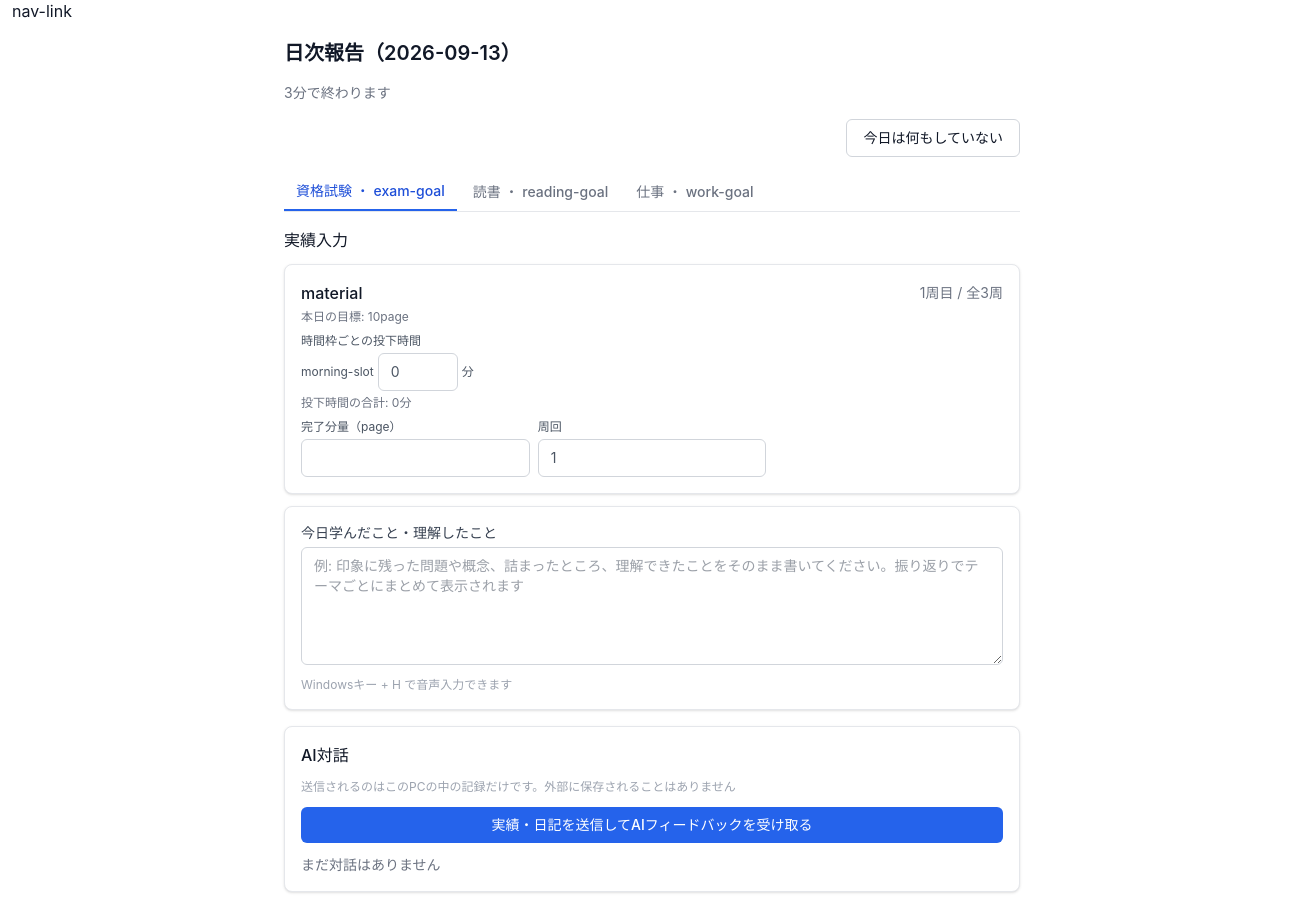
DailyReportPage › shows the truncation notice only in the category whose reply was truncated
This screenshot has width=1292, height=899.
Click the button "読書 ・ reading-goal".
click(540, 192)  # box [461, 173, 620, 211]
(page scrolled)
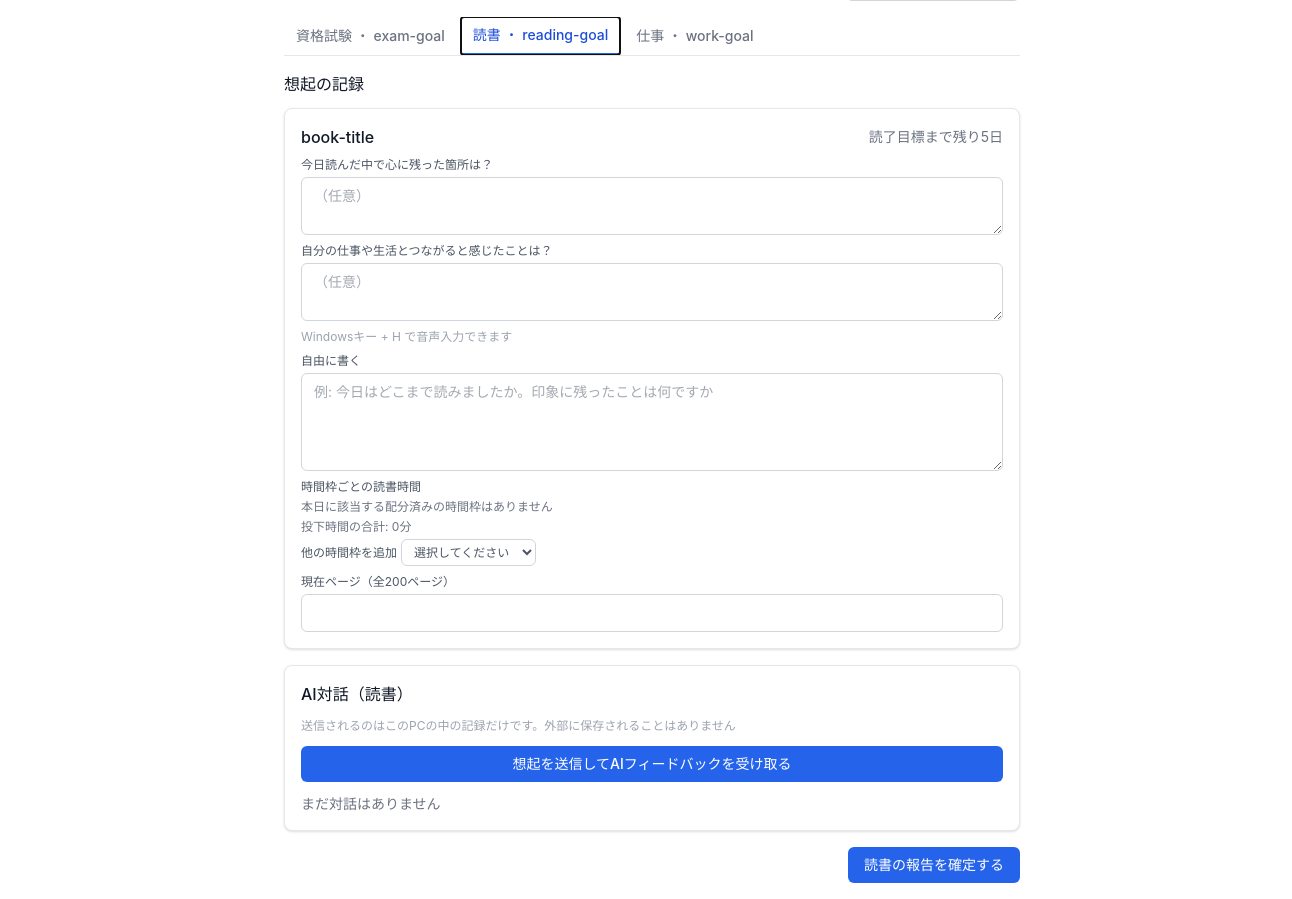
Click the button "想起を送信してAIフィードバックを受け取る".
click(652, 764)  # box [301, 746, 1003, 782]
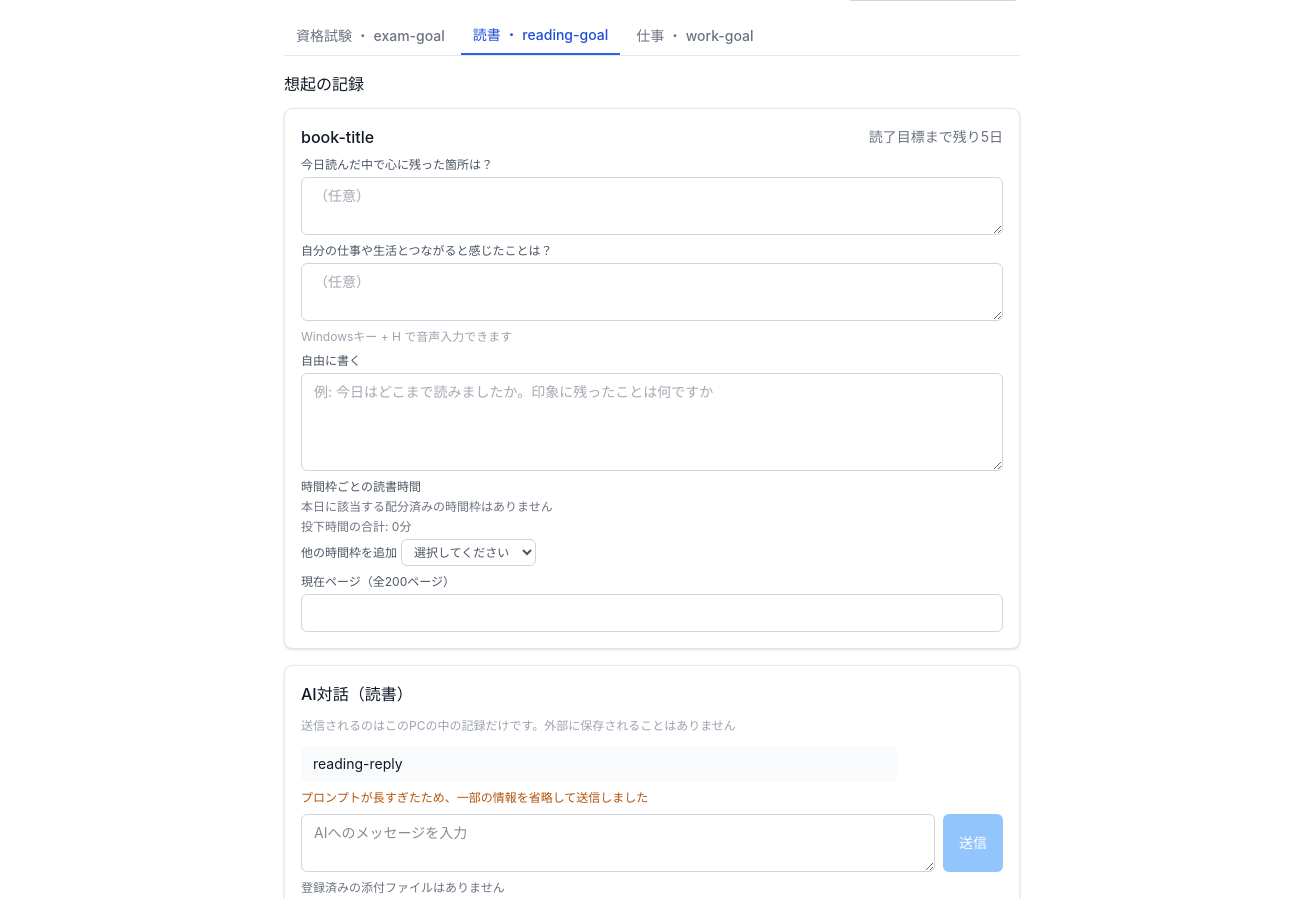
Expected: the text "プロンプトが長すぎたため、一部の情報を省略して送信しました" is shown, [301, 790, 648, 805]
# 省略通知はカテゴリごとに独立して保持する。
Click the button "仕事 ・ work-goal".
click(695, 36)  # box [624, 17, 766, 55]
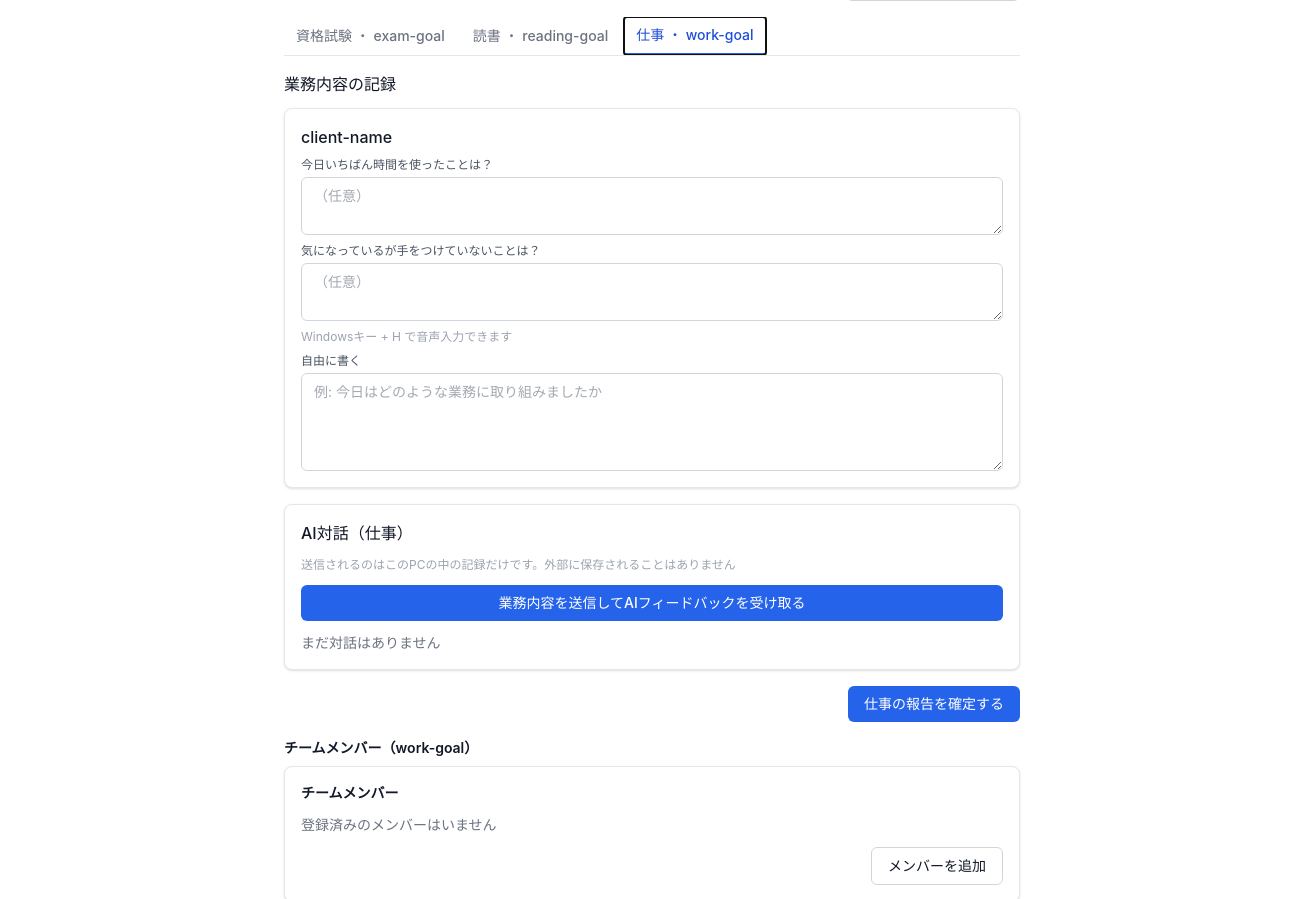
Expected: the text "プロンプトが長すぎたため、一部の情報を省略して送信しました" is gone
